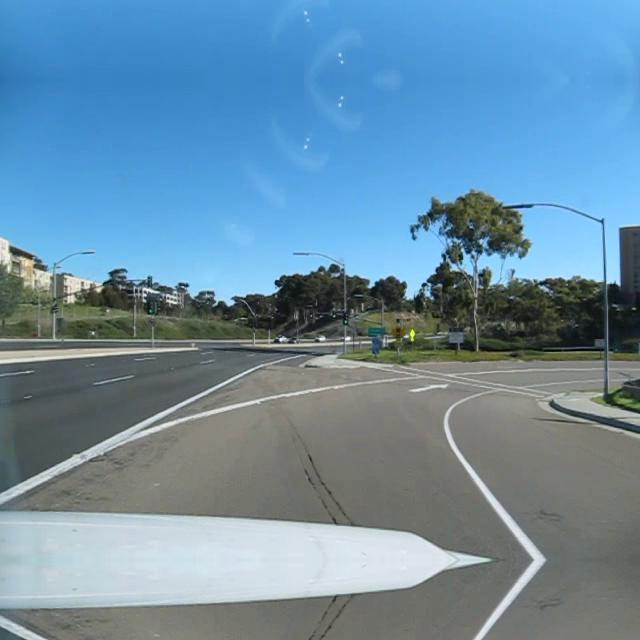signalAhead: (388, 324, 407, 341)
